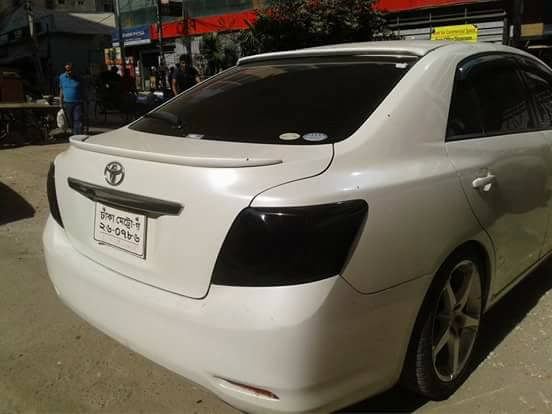registration_plate: (93, 199, 148, 261)
